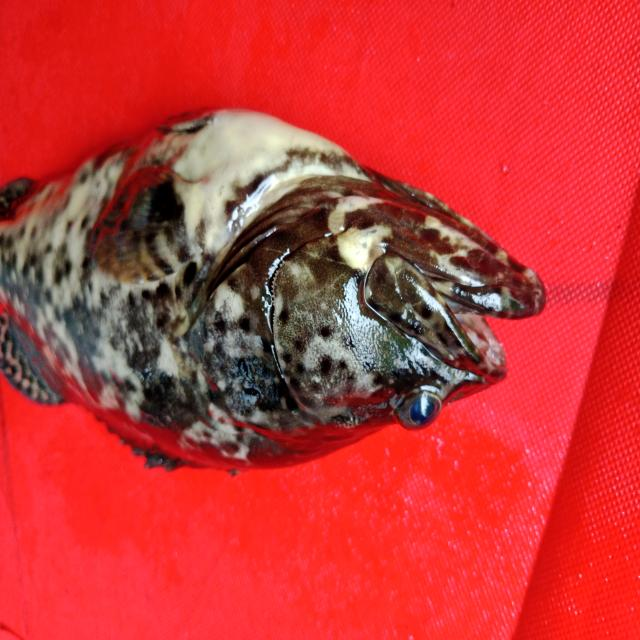ikan: (7, 85, 572, 504)
